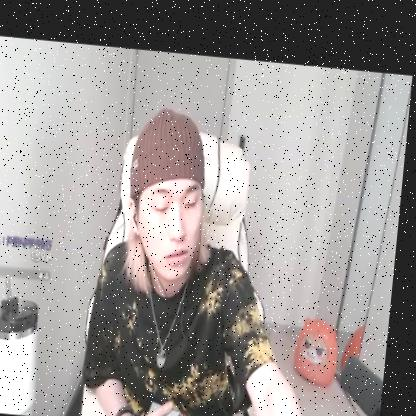streamer: (84, 97, 342, 416)
